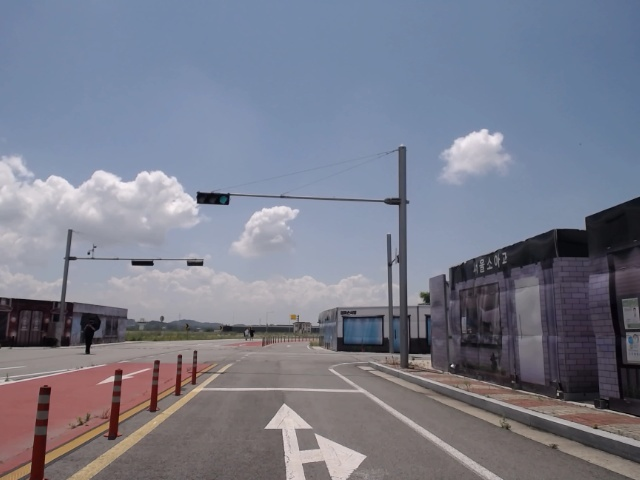green_3: (198, 193, 230, 204)
